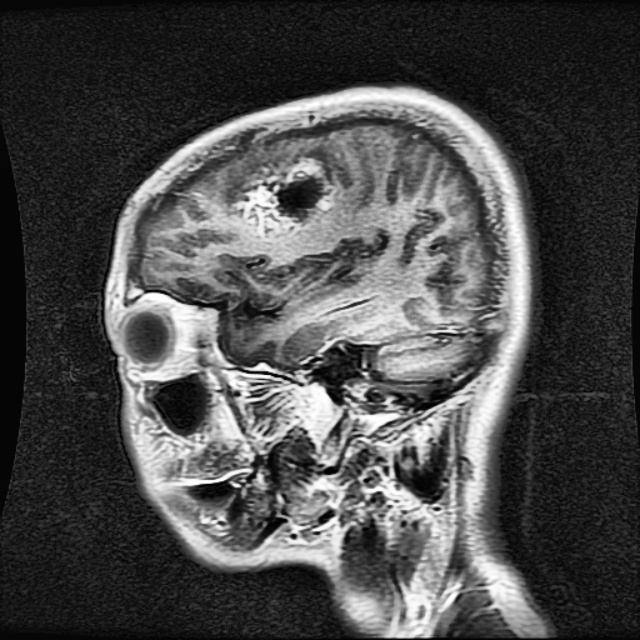Meningioma: (235, 155, 338, 238)
